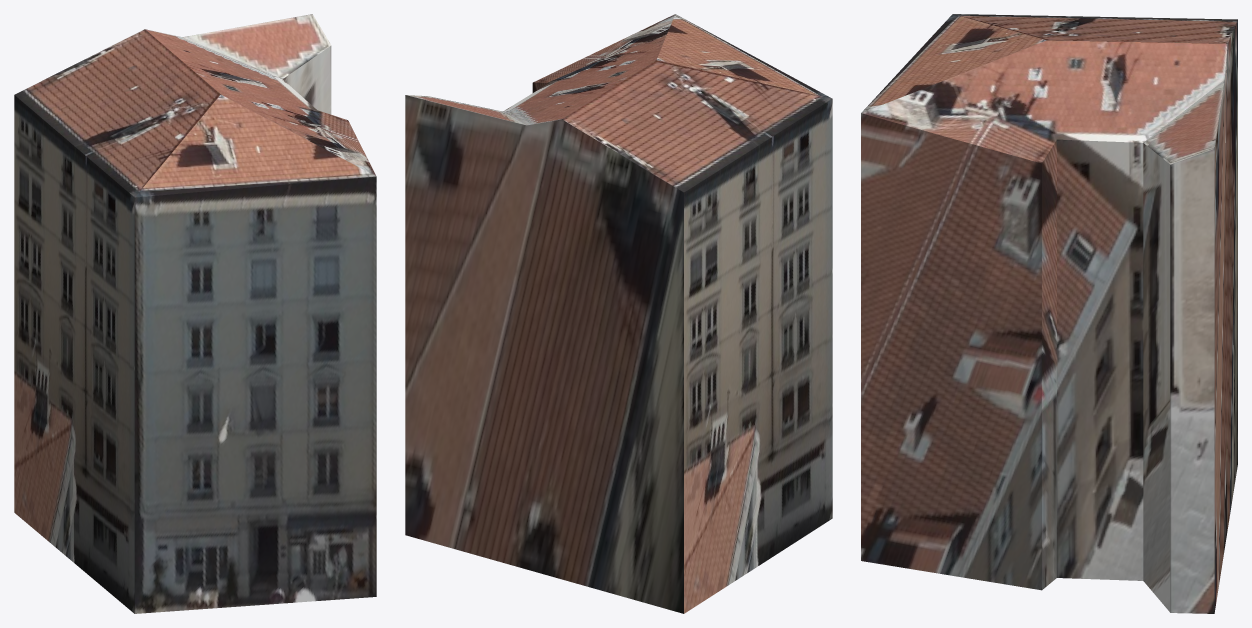
3 views of the same model, side by side, from view 1: azimuth 30°, elevation 25°; view 2: azimuth 150°, elevation 25°; view 3: azimuth 270°, elevation 25° (orthographic). The views are drawn at different scales.
Parts seen in each view (by area): view 1: Z_UP; view 2: Z_UP; view 3: Z_UP.
Boxes of the visible parts, <box> form: Z_UP: <box>14,14,376,613</box>; Z_UP: <box>405,14,832,613</box>; Z_UP: <box>861,14,1237,613</box>.
Size of the model in its own units: 16.32 by 23.64 by 16.61.
2 materials, 1 textured.
